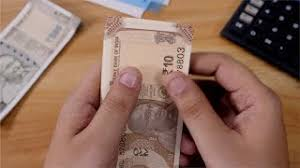ten: (121, 40, 177, 168)
